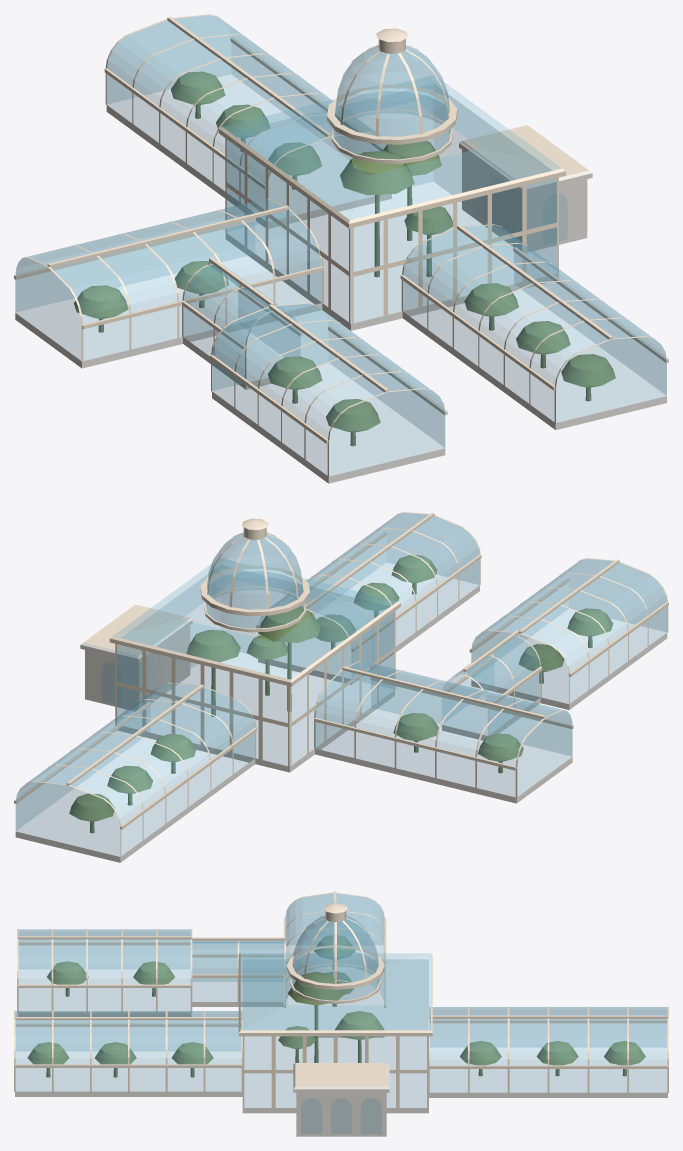
Rendered from ric-ginter-conservatory.glb.
3 views of the same model, one above another, from view 1: azimuth 30°, elevation 25°; view 2: azimuth 150°, elevation 25°; view 3: azimuth 270°, elevation 25° (orthographic). The views are drawn at different scales.
Visible parts, largest first — view 1: Lewis Ginter Conservatory; view 2: Lewis Ginter Conservatory; view 3: Lewis Ginter Conservatory.
Boxes of the visible parts, box(x1,y1,x2,y2) form: Lewis Ginter Conservatory: box(14, 14, 668, 483); Lewis Ginter Conservatory: box(14, 512, 668, 862); Lewis Ginter Conservatory: box(14, 891, 668, 1136).
Size of the model in its own units: 46.29 by 19.6 by 68.18.
